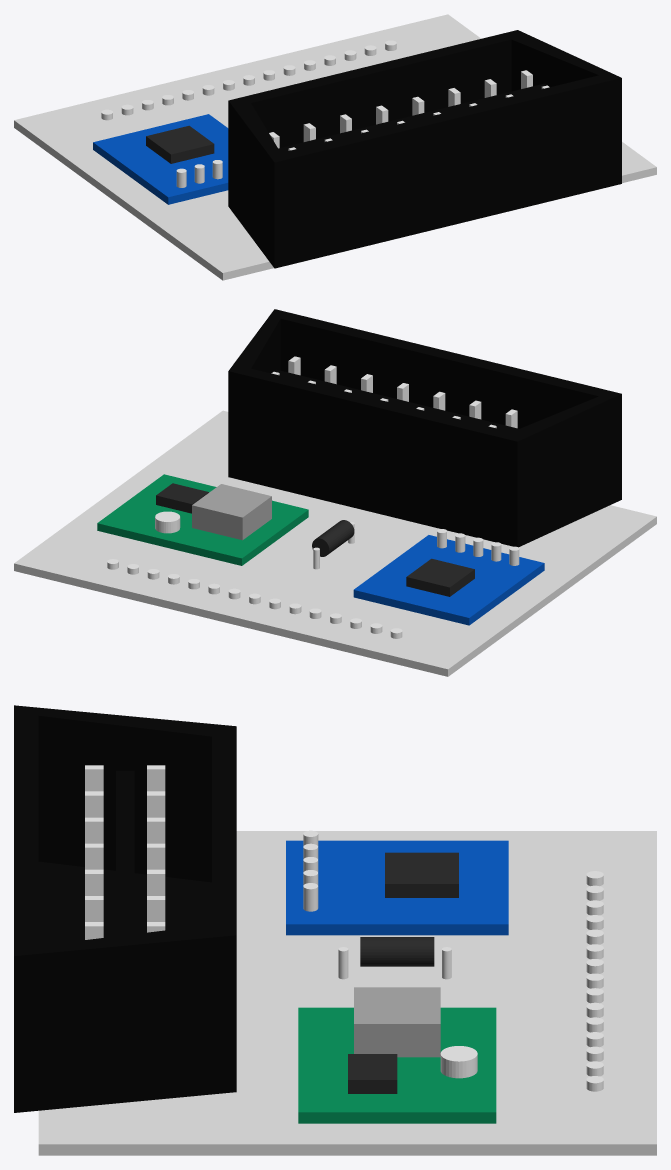
File: dongle.glb
3 renders of one model, top to bottom at view 1: azimuth 30°, elevation 25°; view 2: azimuth 150°, elevation 25°; view 3: azimuth 270°, elevation 25°, orthographic. The views are drawn at different scales.
Parts seen in each view (by area): view 1: OBD_Shell, Main_PCB, Blue_Module_Board, Blue_IC, OBD_Divider; view 2: OBD_Shell, Main_PCB, Blue_Module_Board, Green_Module_Board, Green_Inductor, Blue_IC, OBD_Divider, Green_IC, Diode_Body; view 3: Main_PCB, OBD_Shell, Blue_Module_Board, Green_Module_Board, Green_Inductor, Blue_IC, OBD_Divider, Diode_Body, Green_IC, Green_Trimpot.
Boxes of the visible parts, x1,y1,x2,y2 form: OBD_Shell: (228, 30, 621, 268); Main_PCB: (14, 14, 656, 280); Blue_Module_Board: (93, 114, 228, 204); Blue_IC: (146, 125, 214, 163); OBD_Divider: (278, 83, 549, 152); OBD_Shell: (228, 309, 621, 547); Main_PCB: (14, 410, 656, 676); Blue_Module_Board: (353, 535, 544, 625); Green_Module_Board: (97, 474, 308, 565); Green_Inductor: (192, 484, 271, 540); Blue_IC: (406, 558, 474, 596); OBD_Divider: (272, 369, 518, 431); Green_IC: (156, 483, 208, 513); Diode_Body: (312, 520, 354, 556); Main_PCB: (38, 831, 656, 1155); OBD_Shell: (14, 705, 236, 1112); Blue_Module_Board: (286, 840, 508, 935); Green_Module_Board: (298, 1007, 496, 1123); Green_Inductor: (354, 987, 440, 1057); Blue_IC: (385, 852, 458, 897); OBD_Divider: (116, 770, 134, 936); Diode_Body: (360, 937, 434, 966); Green_IC: (348, 1054, 397, 1093); Green_Trimpot: (440, 1046, 477, 1078).
Size of the model in its own units: 6 by 1.5 by 5.2.
